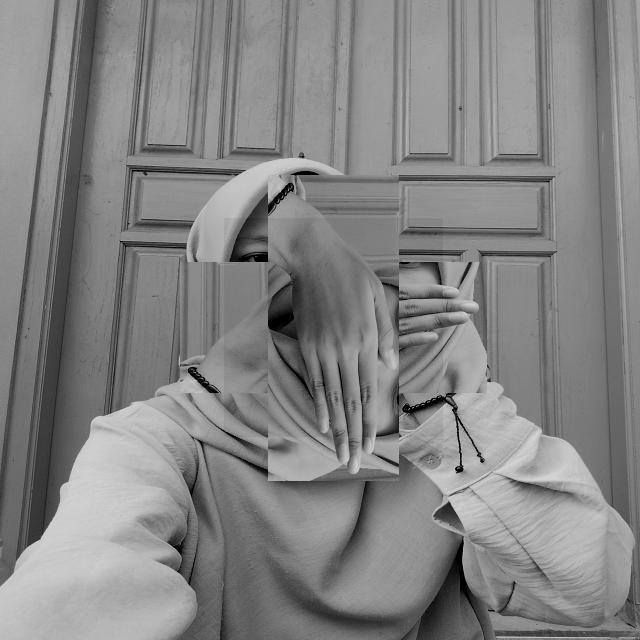buruk: (224, 218, 443, 437)
